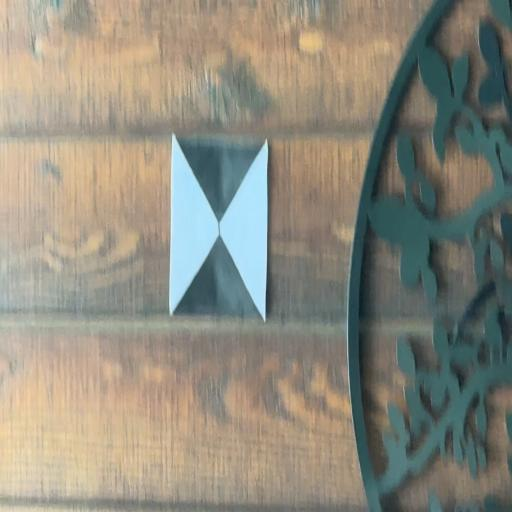target: (170, 134, 267, 320)
